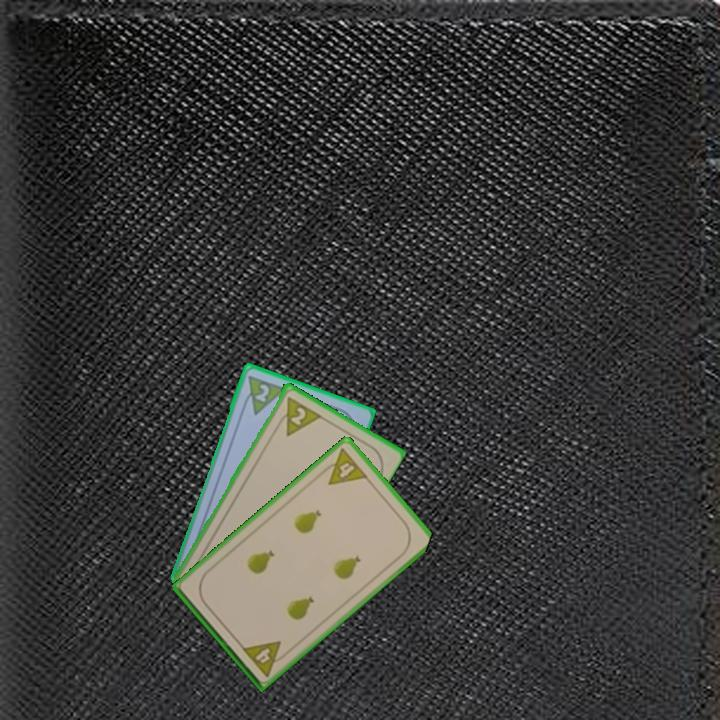2p: (271, 392, 323, 439), (238, 371, 288, 417)
4p: (316, 445, 371, 488), (238, 637, 291, 680)
